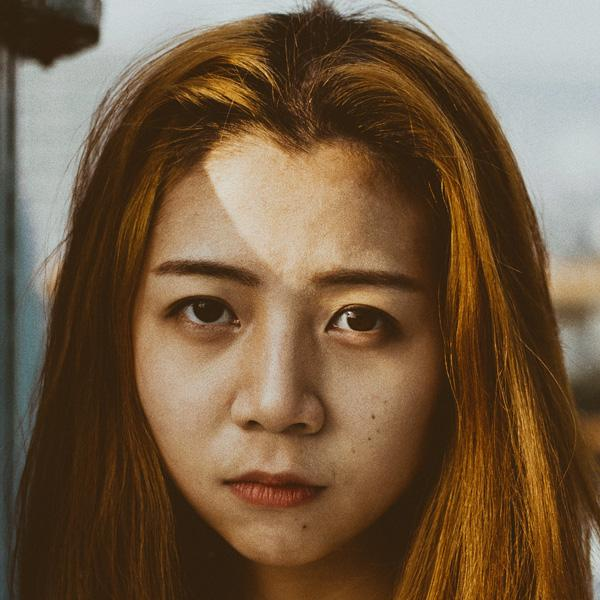Eyes: (316, 294, 411, 356), (156, 285, 251, 346)
